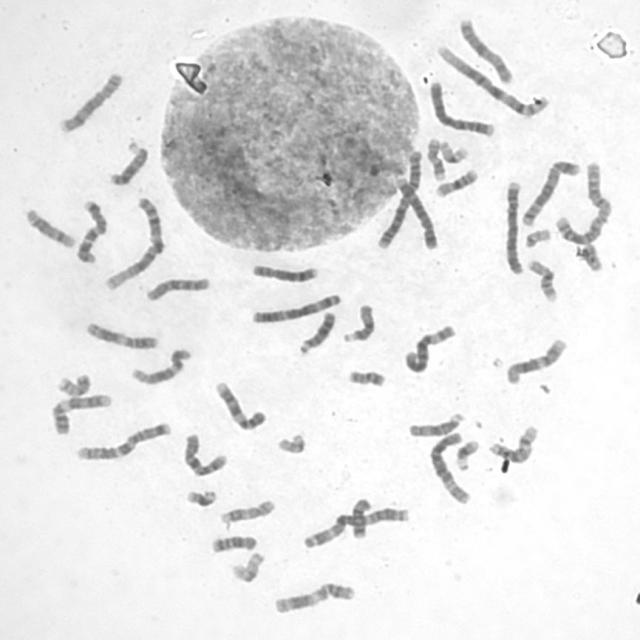A1: (431, 40, 550, 119), (99, 192, 166, 291)
A2: (550, 157, 613, 247), (373, 146, 424, 250)
A3: (298, 502, 412, 549), (246, 288, 344, 324)
B4: (424, 76, 498, 137), (500, 176, 526, 276)
B5: (518, 154, 582, 228), (390, 168, 441, 250)
C10: (178, 428, 229, 478), (141, 272, 212, 303)
C11: (268, 578, 358, 615), (80, 317, 160, 351)
C12: (500, 333, 569, 385), (126, 343, 193, 386)
C6: (425, 427, 473, 506), (398, 320, 458, 374)
C7: (71, 417, 173, 461), (71, 195, 109, 264)
C8: (53, 67, 125, 135), (246, 259, 320, 284)
C9: (46, 388, 114, 436), (210, 376, 267, 432)
D13: (104, 136, 150, 186), (293, 306, 338, 356)
D14: (19, 202, 77, 249), (484, 420, 540, 464)
D15: (404, 408, 466, 438), (338, 299, 377, 344)
E16: (522, 254, 560, 303), (430, 164, 480, 199)
E17: (215, 494, 276, 526), (423, 133, 448, 182)
E18: (206, 530, 259, 555), (347, 494, 372, 540)
F19: (227, 547, 266, 584), (435, 136, 470, 164)
F20: (52, 368, 92, 398), (343, 364, 388, 389)
G21: (449, 435, 481, 472), (181, 484, 219, 508)
G22: (272, 428, 308, 456), (520, 223, 553, 249)
X: (454, 12, 516, 85)
